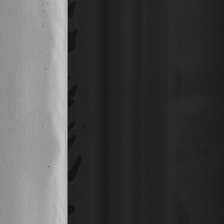inclusion: (0, 10, 26, 207), (41, 101, 47, 132), (43, 164, 50, 176), (42, 2, 47, 15), (43, 64, 48, 76), (41, 21, 45, 32)
